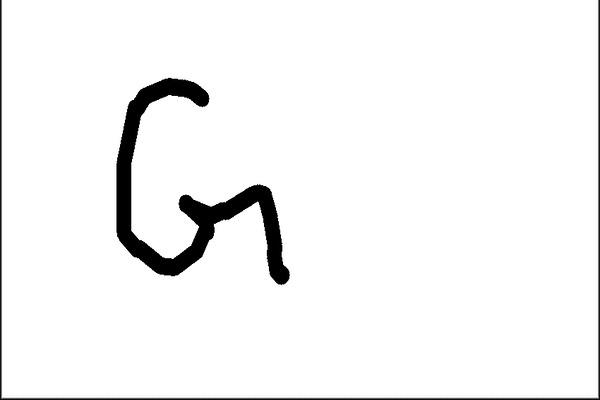G: (109, 73, 296, 288)
